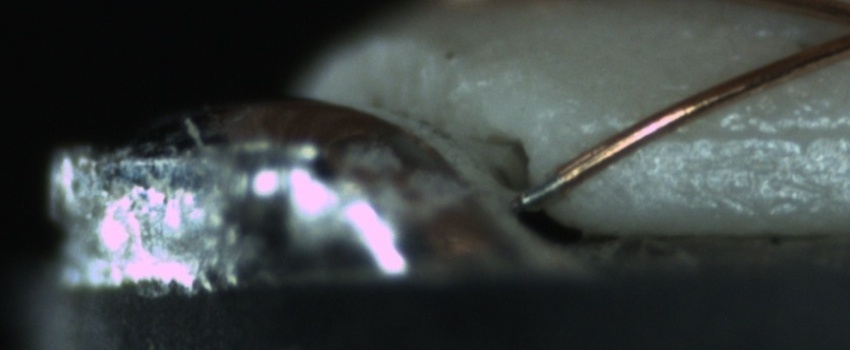DL: (610, 98, 847, 164)
TS: (520, 172, 566, 207)
TTCW: (519, 156, 574, 210)
